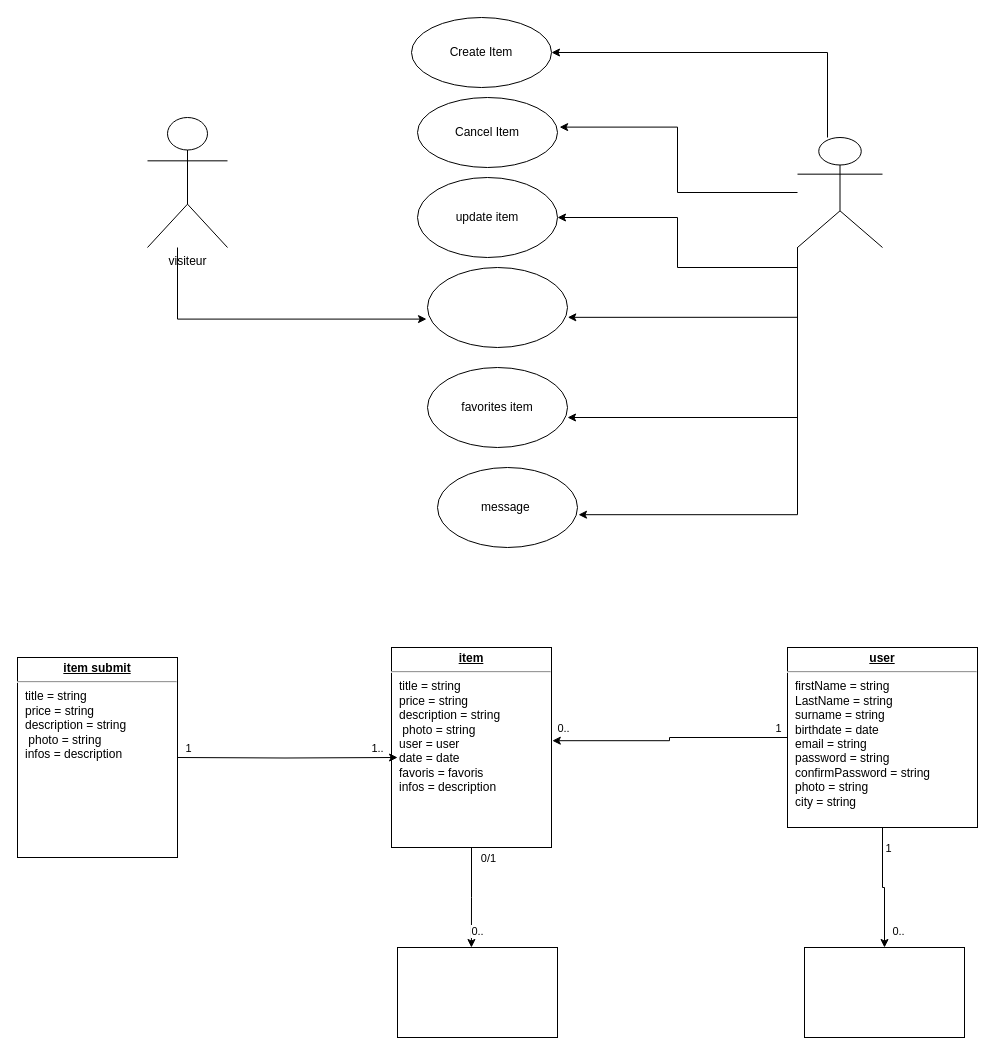
Image size: 995x1055. Some labels were removed from this diagram. Here are the shapes that lost their labels. From the top down, the centre of each, then its label:
the point at 839,192: utilisateur
the point at 497,307: search item
the point at 477,992: favoris item = favoris
the point at 884,992: messagerie message = string photo = string
